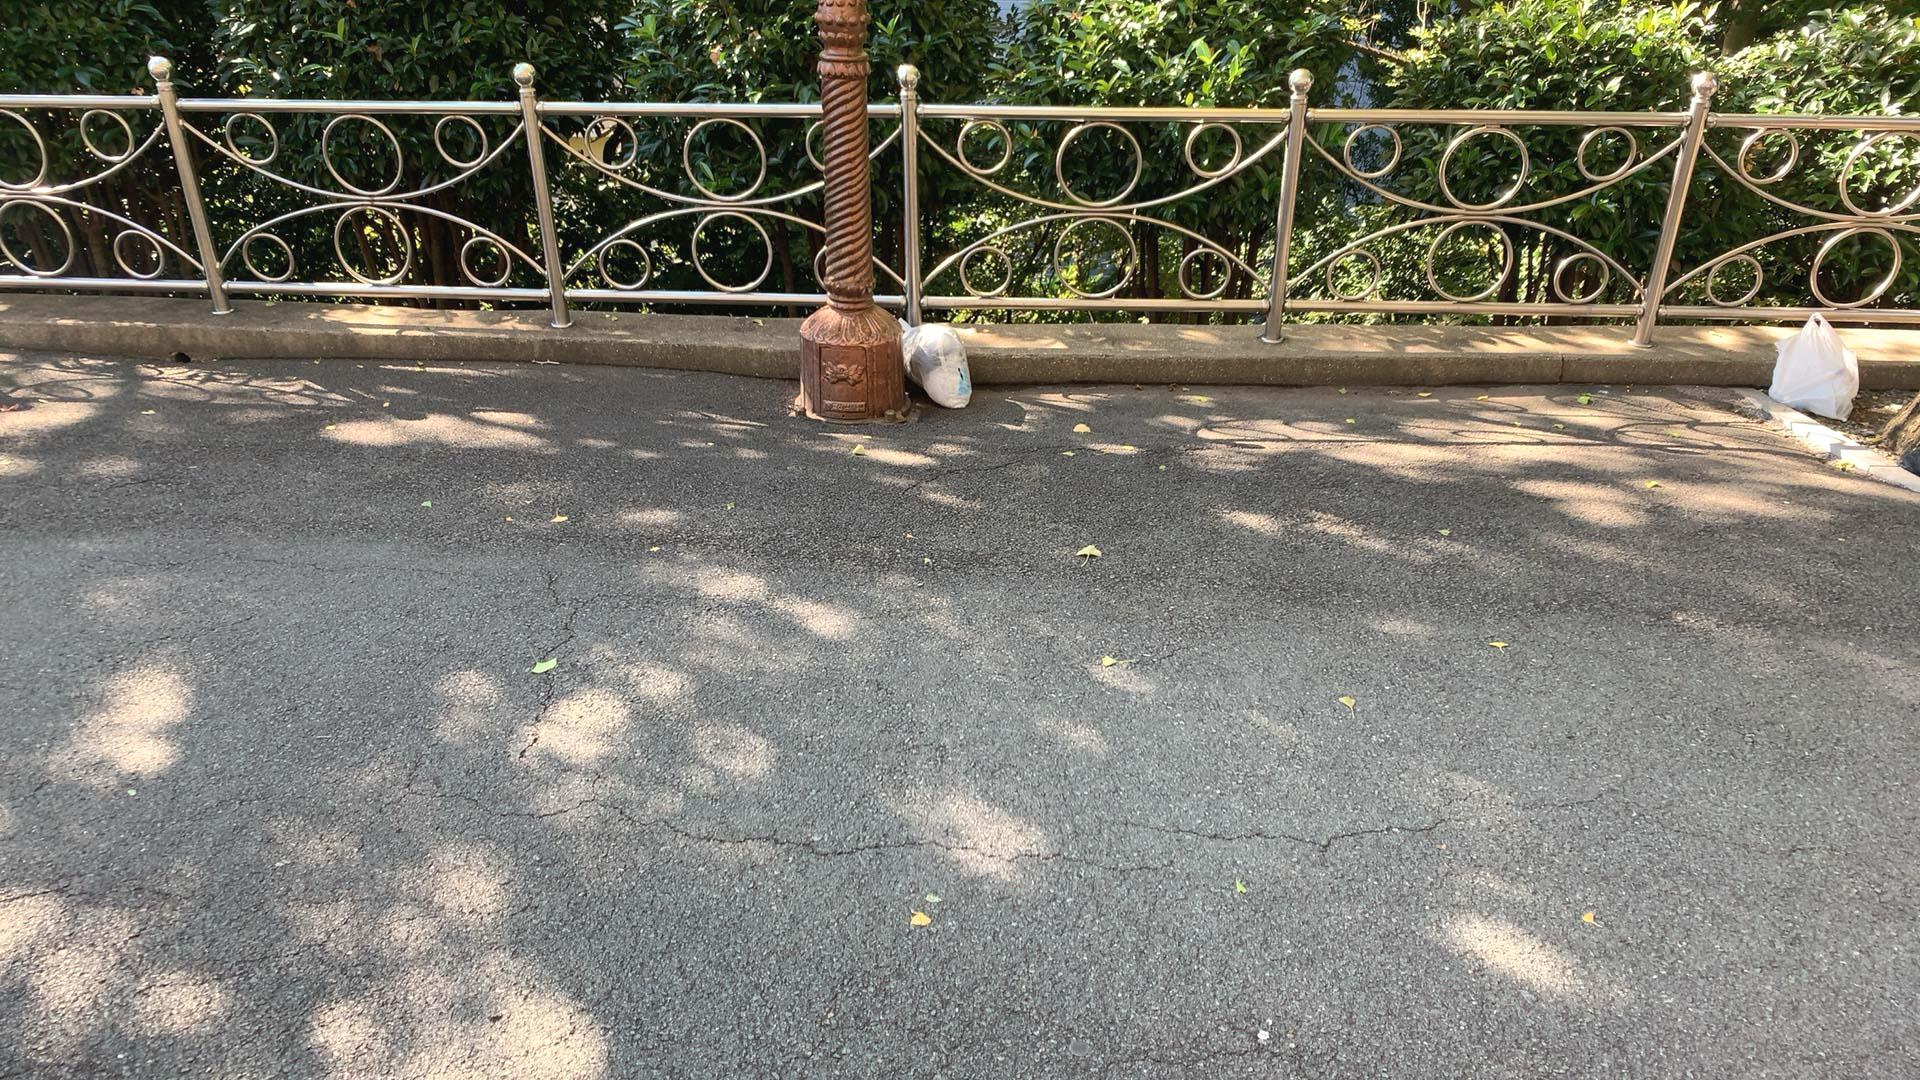white_bag: (889, 310, 980, 417)
